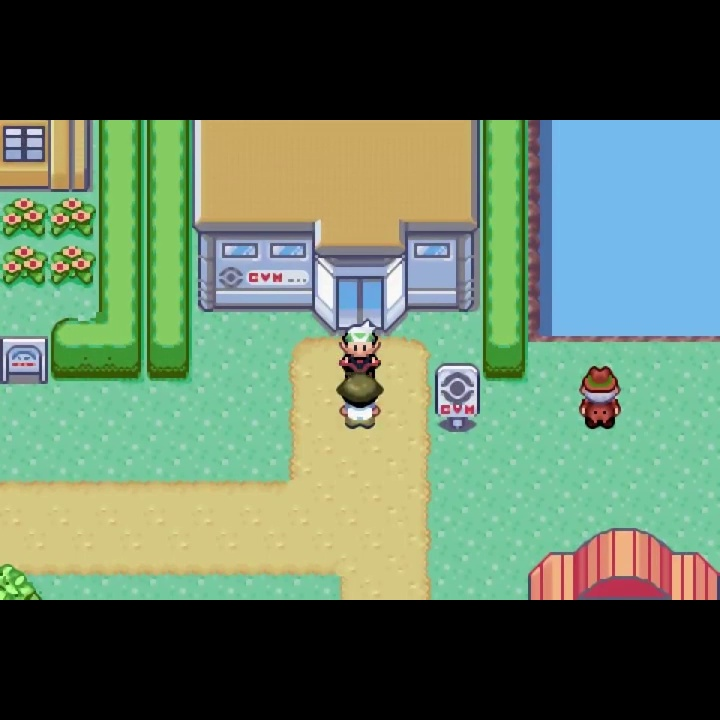agent: (338, 319, 382, 376)
gym: (194, 119, 481, 334)
npc: (578, 365, 622, 435), (334, 373, 384, 430)
pokecen: (525, 526, 720, 599)
